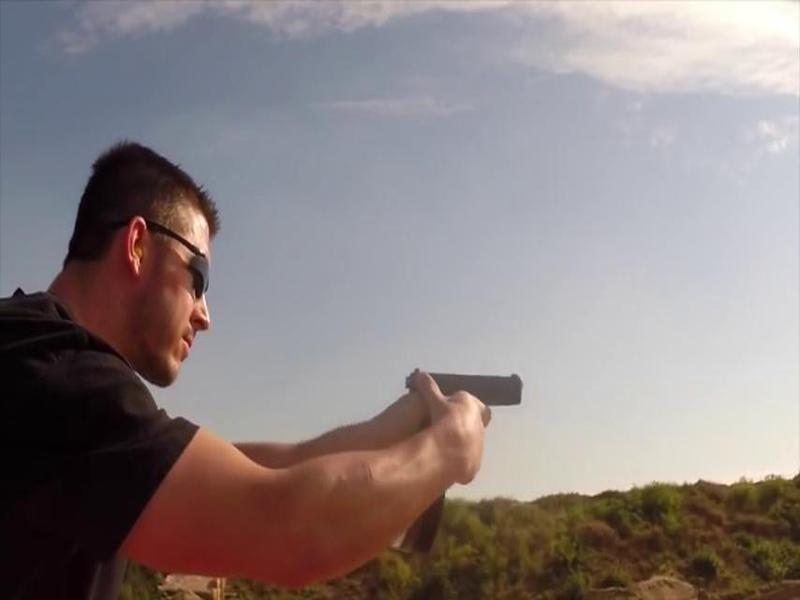Pistola: (391, 357, 530, 455)
